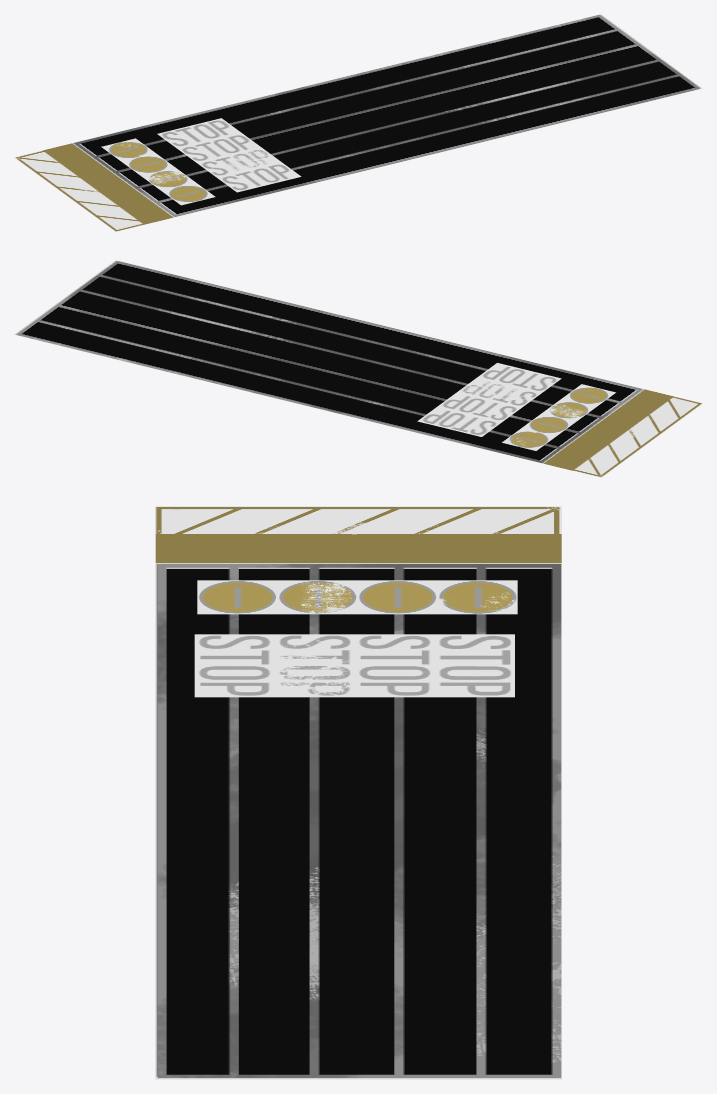
File: Line_ABCD.fbx
3 renders of one model, top to bottom at view 1: azimuth 30°, elevation 25°; view 2: azimuth 150°, elevation 25°; view 3: azimuth 270°, elevation 25°, orthographic. The views are drawn at different scales.
Parts seen in each view (by area): view 1: Line_B, Line_A, Line_D003, Line_D, Line_D001, Line_D002, Line_C_001, Line_C_004, Line_C_002, Line_C_003; view 2: Line_B, Line_A, Line_D001, Line_D, Line_D002, Line_D003, Line_C_002, Line_C_003, Line_C_004, Line_C_001; view 3: Line_B, Line_A, Line_D001, Line_D002, Line_D003, Line_D, Line_C_004, Line_C_001, Line_C_002, Line_C_003.
Part boxes in pixels (x1,y1,x2,y2): Line_B: [73, 14, 702, 217]; Line_A: [14, 143, 173, 231]; Line_D003: [217, 162, 301, 192]; Line_D: [157, 118, 241, 148]; Line_D001: [177, 133, 261, 162]; Line_D002: [197, 147, 280, 177]; Line_C_001: [101, 138, 154, 161]; Line_C_004: [161, 182, 215, 205]; Line_C_002: [121, 153, 175, 175]; Line_C_003: [141, 167, 195, 190]; Line_B: [14, 260, 643, 463]; Line_A: [543, 389, 702, 477]; Line_D001: [437, 392, 521, 422]; Line_D: [417, 406, 501, 436]; Line_D002: [458, 377, 541, 407]; Line_D003: [477, 363, 561, 392]; Line_C_002: [522, 413, 575, 436]; Line_C_003: [542, 399, 595, 421]; Line_C_004: [562, 384, 615, 406]; Line_C_001: [502, 428, 555, 450]; Line_B: [155, 563, 561, 1079]; Line_A: [155, 506, 561, 563]; Line_D001: [354, 634, 434, 697]; Line_D002: [274, 634, 354, 697]; Line_D003: [194, 634, 274, 697]; Line_D: [435, 634, 514, 697]; Line_C_004: [197, 580, 277, 614]; Line_C_001: [437, 580, 517, 614]; Line_C_002: [357, 580, 437, 614]; Line_C_003: [277, 580, 357, 614].
Size of the model in its own units: 2560 by 768 by 0.4.
